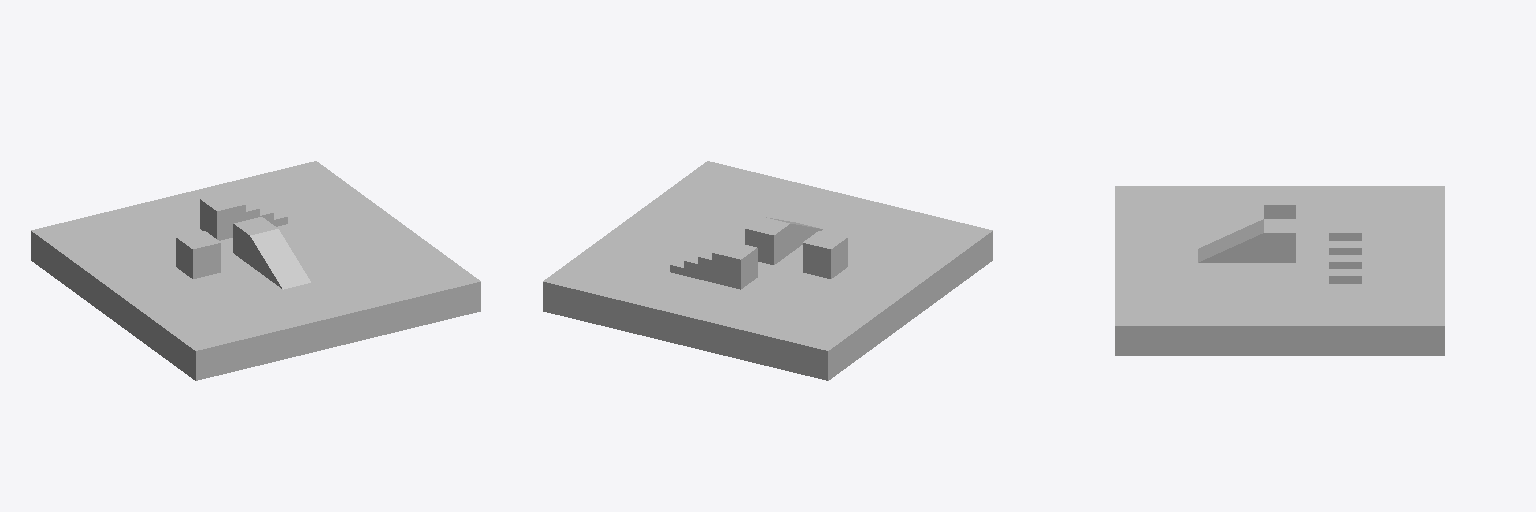
Rendered from platform.obj.
The picture shows the model from 3 angles: view 1: azimuth 30°, elevation 25°; view 2: azimuth 150°, elevation 25°; view 3: azimuth 270°, elevation 25°; orthographic projection.
Visible parts, largest first — view 1: ground_mesh, platform_0_mesh.001, platform_2_mesh.003, platform_1_mesh.002; view 2: ground_mesh, platform_2_mesh.003, platform_0_mesh.001, platform_1_mesh.002; view 3: ground_mesh, platform_0_mesh.001, platform_2_mesh.003, platform_1_mesh.002.
Part boxes in pixels (x1,y1,x2,y2): ground_mesh: (31,161,480,380); platform_0_mesh.001: (233,217,310,289); platform_2_mesh.003: (200,193,287,240); platform_1_mesh.002: (176,231,220,278); ground_mesh: (543,161,992,380); platform_2_mesh.003: (670,241,757,289); platform_0_mesh.001: (745,217,822,264); platform_1_mesh.002: (803,231,847,278); ground_mesh: (1115,186,1444,355); platform_0_mesh.001: (1198,219,1295,262); platform_2_mesh.003: (1329,219,1361,283); platform_1_mesh.002: (1264,191,1295,218).
Bounding box in the file's own units: 20 × 4 × 20.